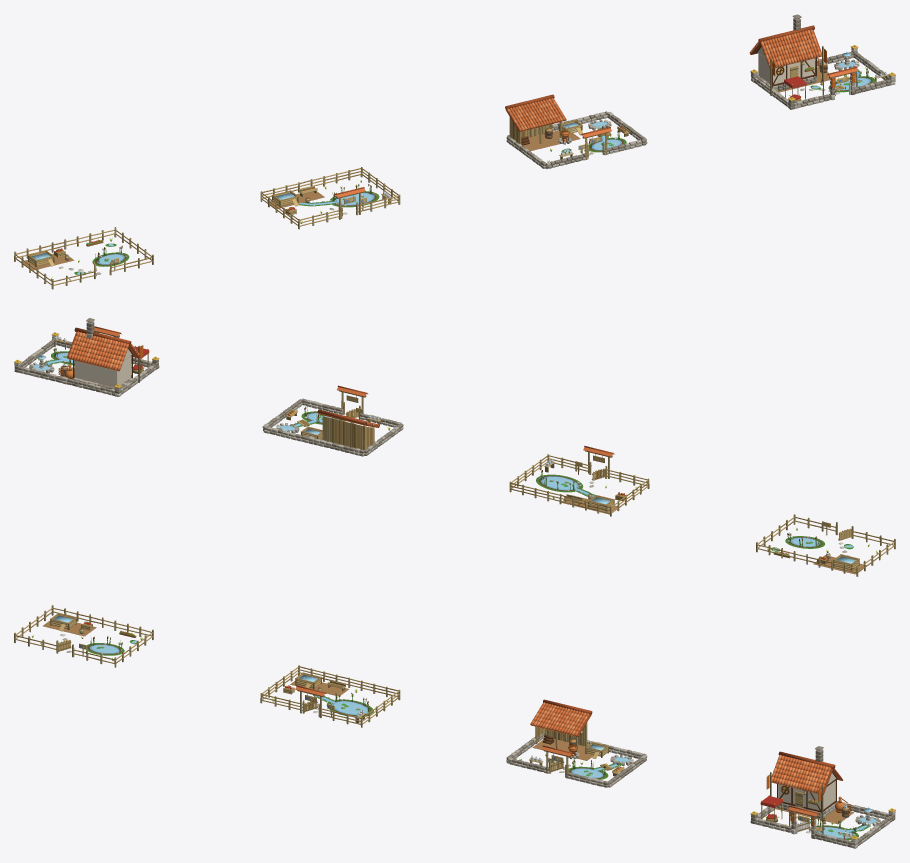
Rendered from geliere-niveaux.glb.
3 renders of one model, top to bottom at view 1: azimuth 30°, elevation 25°; view 2: azimuth 150°, elevation 25°; view 3: azimuth 330°, elevation 25°, orthographic.
Visible parts, largest first — view 1: pierre.010, tuile.005, tuile.003, pierre.006, pierre.009, lisse.002, pierre.007, mur, tuile.006, lisse, piquet.001, piquet; view 2: tuile.005, pierre.010, pierre.006, mur, pierre.007, pierre.009, lisse.002, piquet, planche.005, planche.006, piquet.001, lisse; view 3: pierre.010, tuile.005, pierre.009, tuile.003, pierre.006, lisse.002, pierre.007, mur, tuile.006, piquet.001, piquet, lisse (+1 smaller).
Boxes of the visible parts, left/top/right/bottom form: pierre.010: left=751, top=18, right=890, bottom=109; tuile.005: left=749, top=29, right=819, bottom=67; tuile.003: left=508, top=98, right=565, bottom=131; pierre.006: left=509, top=112, right=647, bottom=168; pierre.009: left=750, top=29, right=895, bottom=108; lisse.002: left=261, top=168, right=398, bottom=226; pierre.007: left=506, top=111, right=646, bottom=168; mur: left=757, top=47, right=814, bottom=84; tuile.006: left=751, top=30, right=821, bottom=68; lisse: left=14, top=229, right=152, bottom=285; piquet.001: left=260, top=167, right=400, bottom=229; piquet: left=14, top=228, right=153, bottom=289; tuile.005: left=67, top=331, right=138, bottom=371; pierre.010: left=14, top=321, right=159, bottom=395; pierre.006: left=262, top=399, right=403, bottom=456; mur: left=74, top=349, right=132, bottom=386; pierre.007: left=263, top=398, right=403, bottom=455; pierre.009: left=19, top=333, right=155, bottom=395; lisse.002: left=510, top=455, right=649, bottom=513; piquet: left=756, top=515, right=895, bottom=576; planche.005: left=297, top=407, right=373, bottom=448; planche.006: left=300, top=410, right=372, bottom=449; piquet.001: left=509, top=455, right=649, bottom=516; lisse: left=757, top=517, right=894, bottom=572; pierre.010: left=750, top=749, right=895, bottom=847; tuile.005: left=771, top=755, right=841, bottom=793; pierre.009: left=755, top=761, right=890, bottom=846; tuile.003: left=530, top=703, right=589, bottom=736; pierre.006: left=506, top=733, right=647, bottom=787; lisse.002: left=261, top=666, right=399, bottom=724; pierre.007: left=506, top=732, right=646, bottom=787; mur: left=778, top=773, right=835, bottom=810; tuile.006: left=770, top=755, right=838, bottom=794; piquet.001: left=260, top=666, right=400, bottom=727; piquet: left=14, top=606, right=153, bottom=667; lisse: left=15, top=608, right=152, bottom=663.
Bounding box in the file's own units: 47.89 × 3.42 × 4.17.
